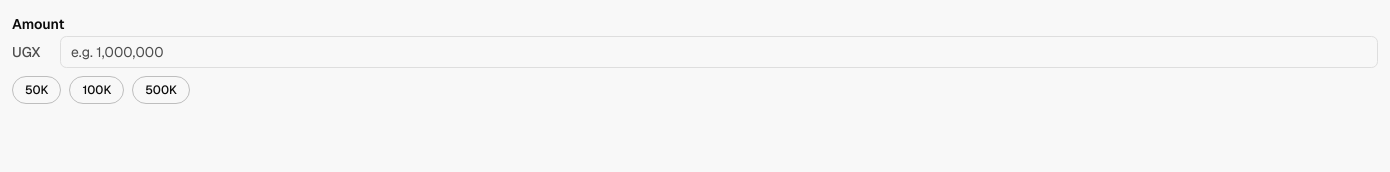
Test case: MoneyInput › presets › clicking a preset sets the input value
This screenshot has width=1390, height=172.
What coordinates should you click on to do the following:
click the button "100K"
I would click on:
 (97, 90)
Its box is x1=69 y1=76 x2=124 y2=104.
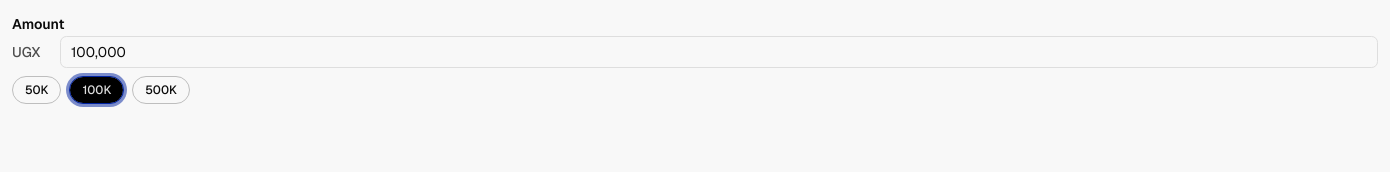
Result: the field labelled "Amount" holds "100,000" at x1=60 y1=36 x2=1378 y2=68
